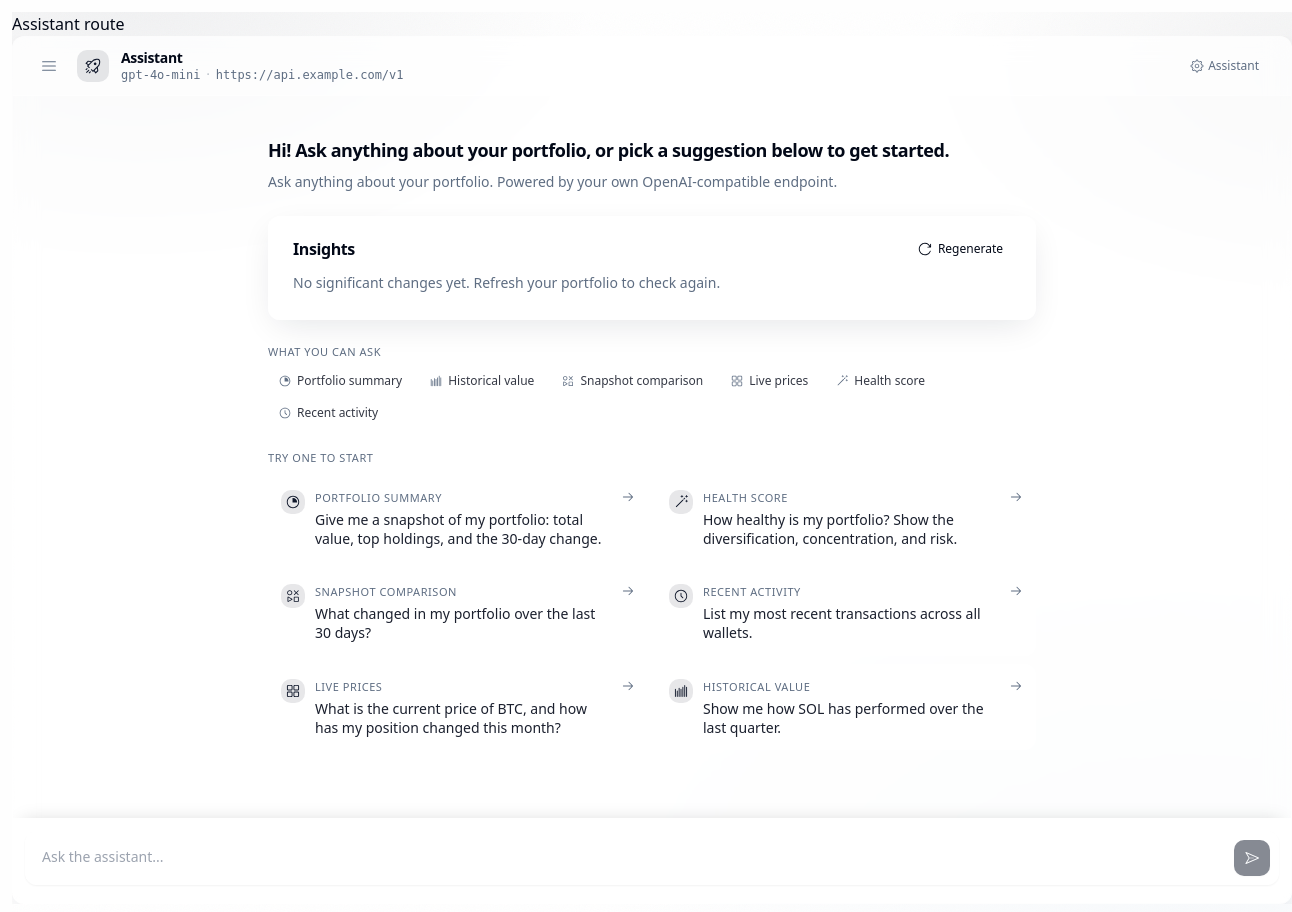
Test: ChatPage › opens chat sessions as a full phone page
Click the button with test id "sidebar-toggle".
click(49, 66)  # box [33,50,65,82]
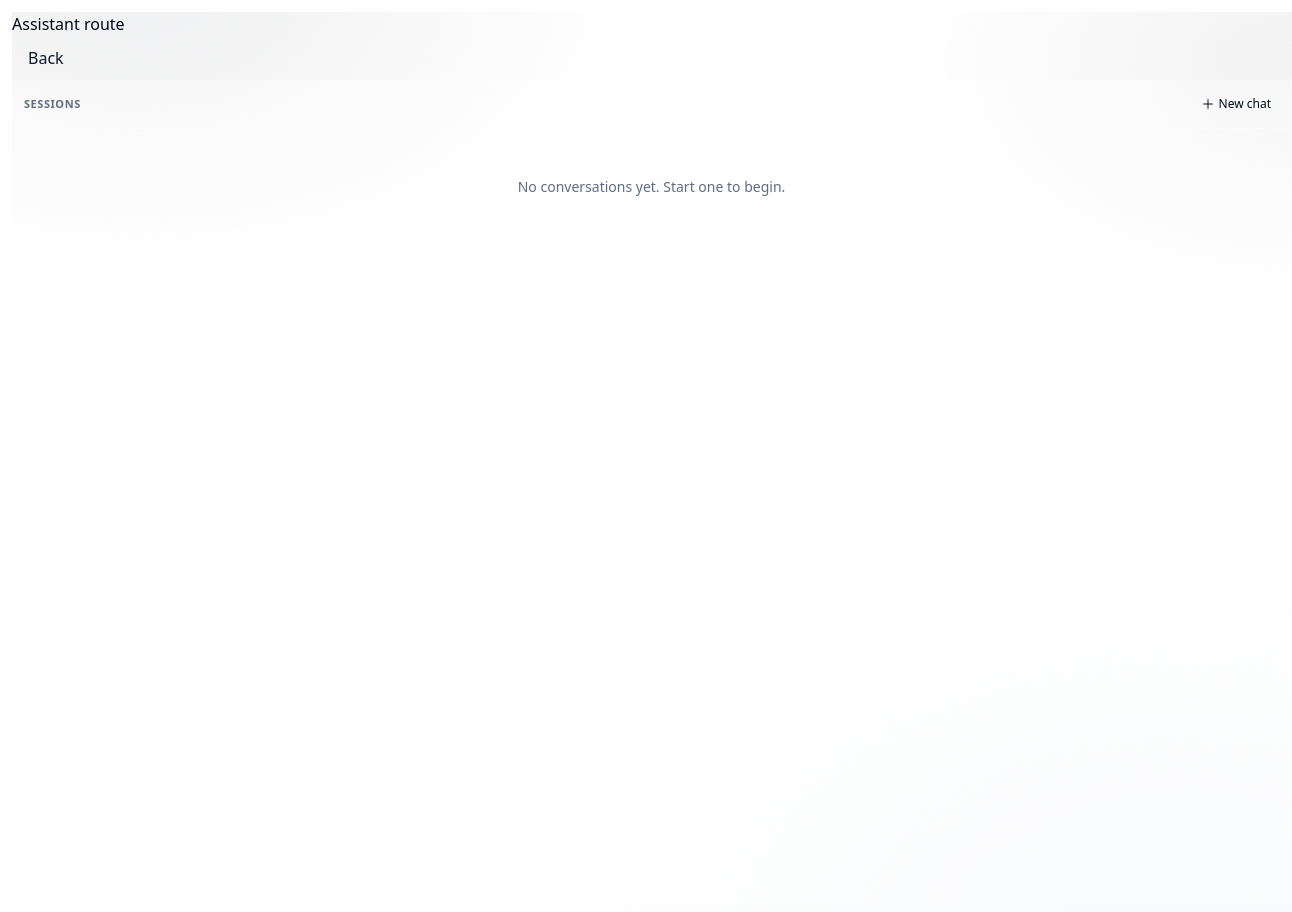
Expected: the element with test id "session-sidebar" is shown
Expected: the element with test id "chat-card" is gone
